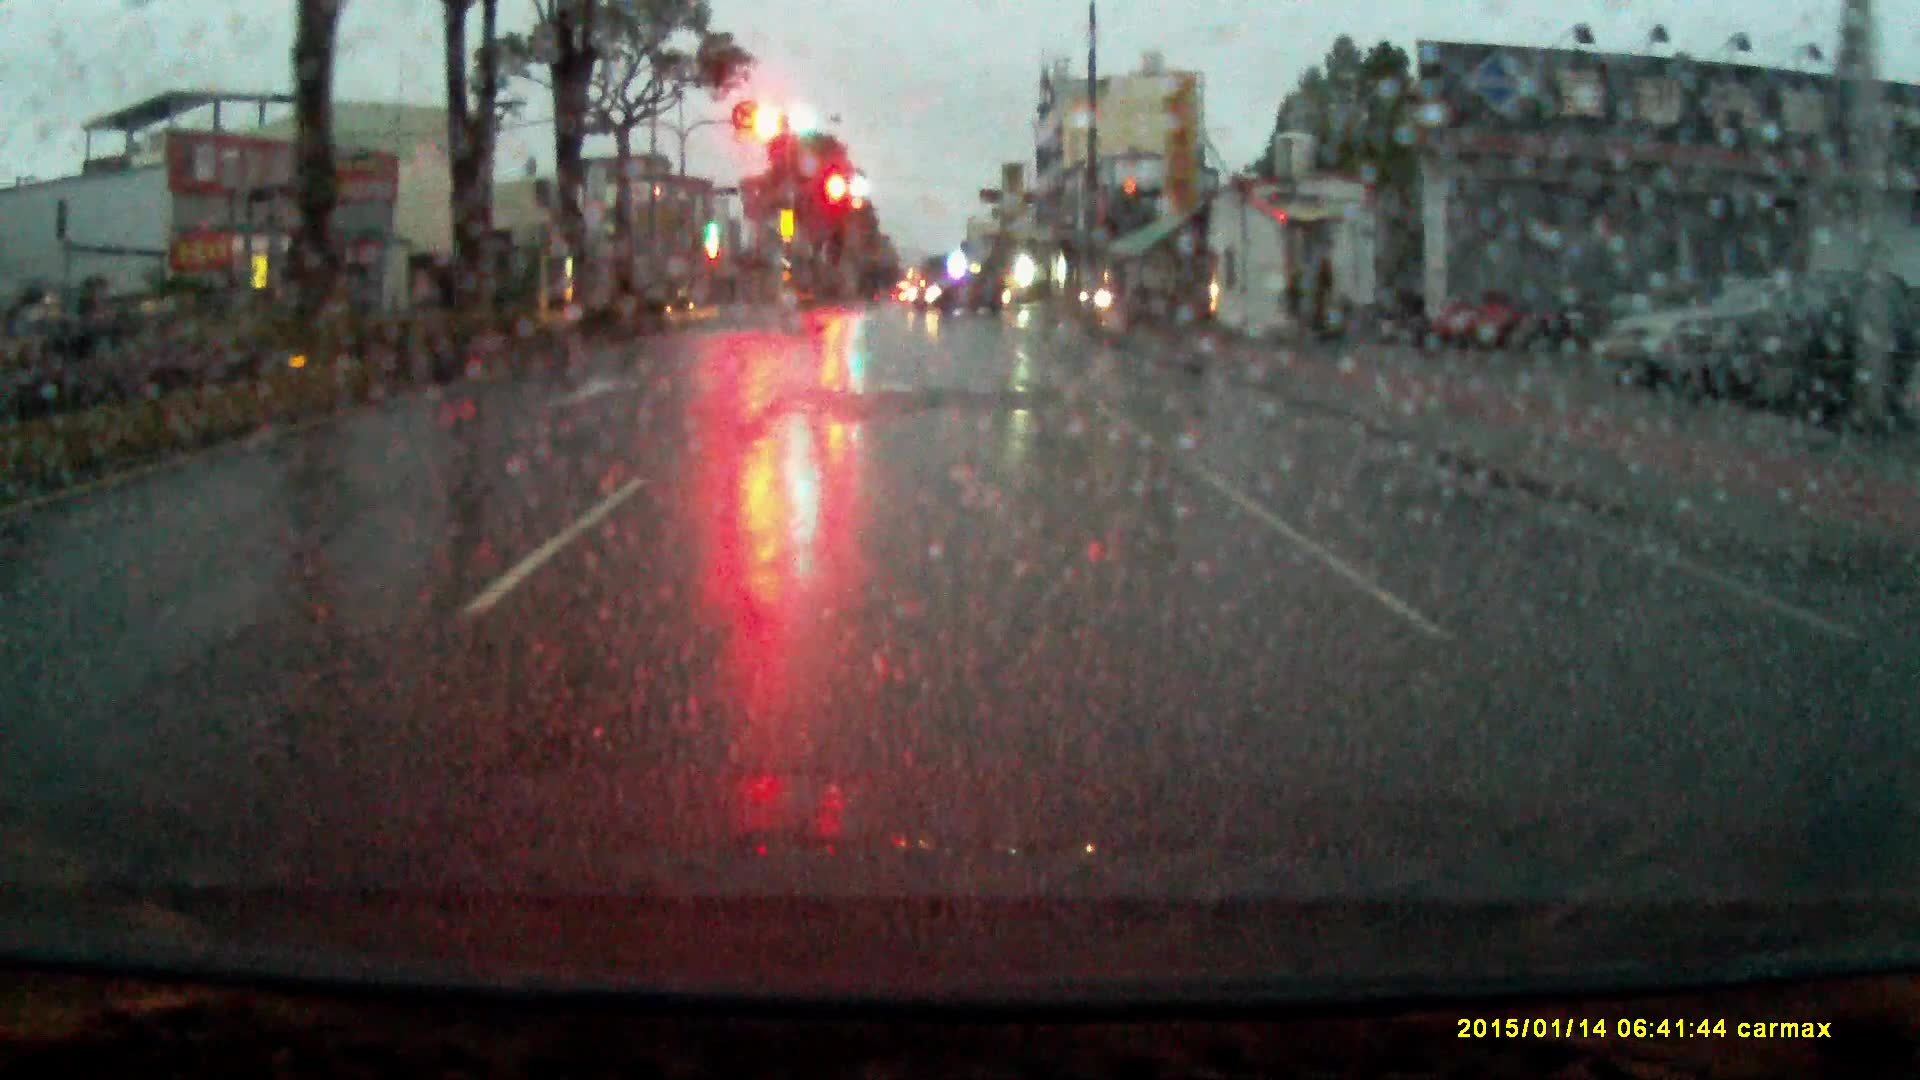vehicle: (1607, 277, 1908, 406), (1735, 280, 1920, 422), (909, 276, 1002, 319)
